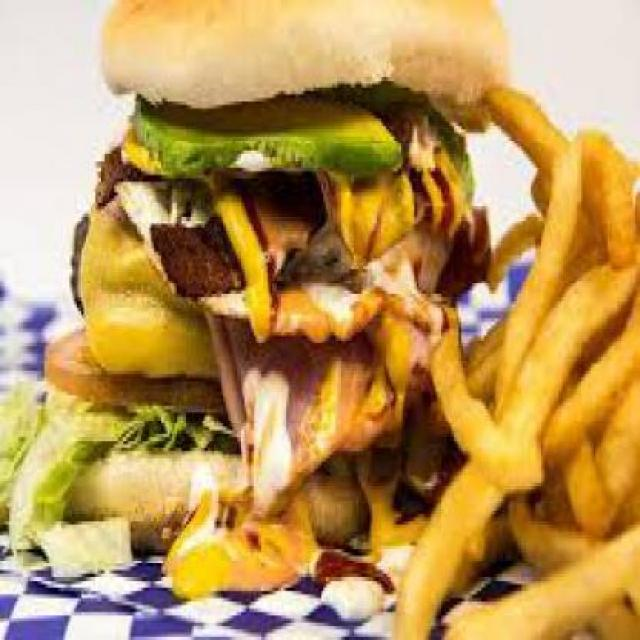french fries: (434, 73, 638, 636)
